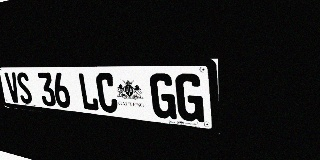3: (37, 72, 57, 107)
6: (51, 73, 71, 109)
C: (95, 73, 119, 114)
G: (175, 73, 204, 123), (149, 73, 177, 120)
L: (77, 73, 100, 112)
S: (15, 72, 33, 104)
V: (4, 72, 21, 103)
